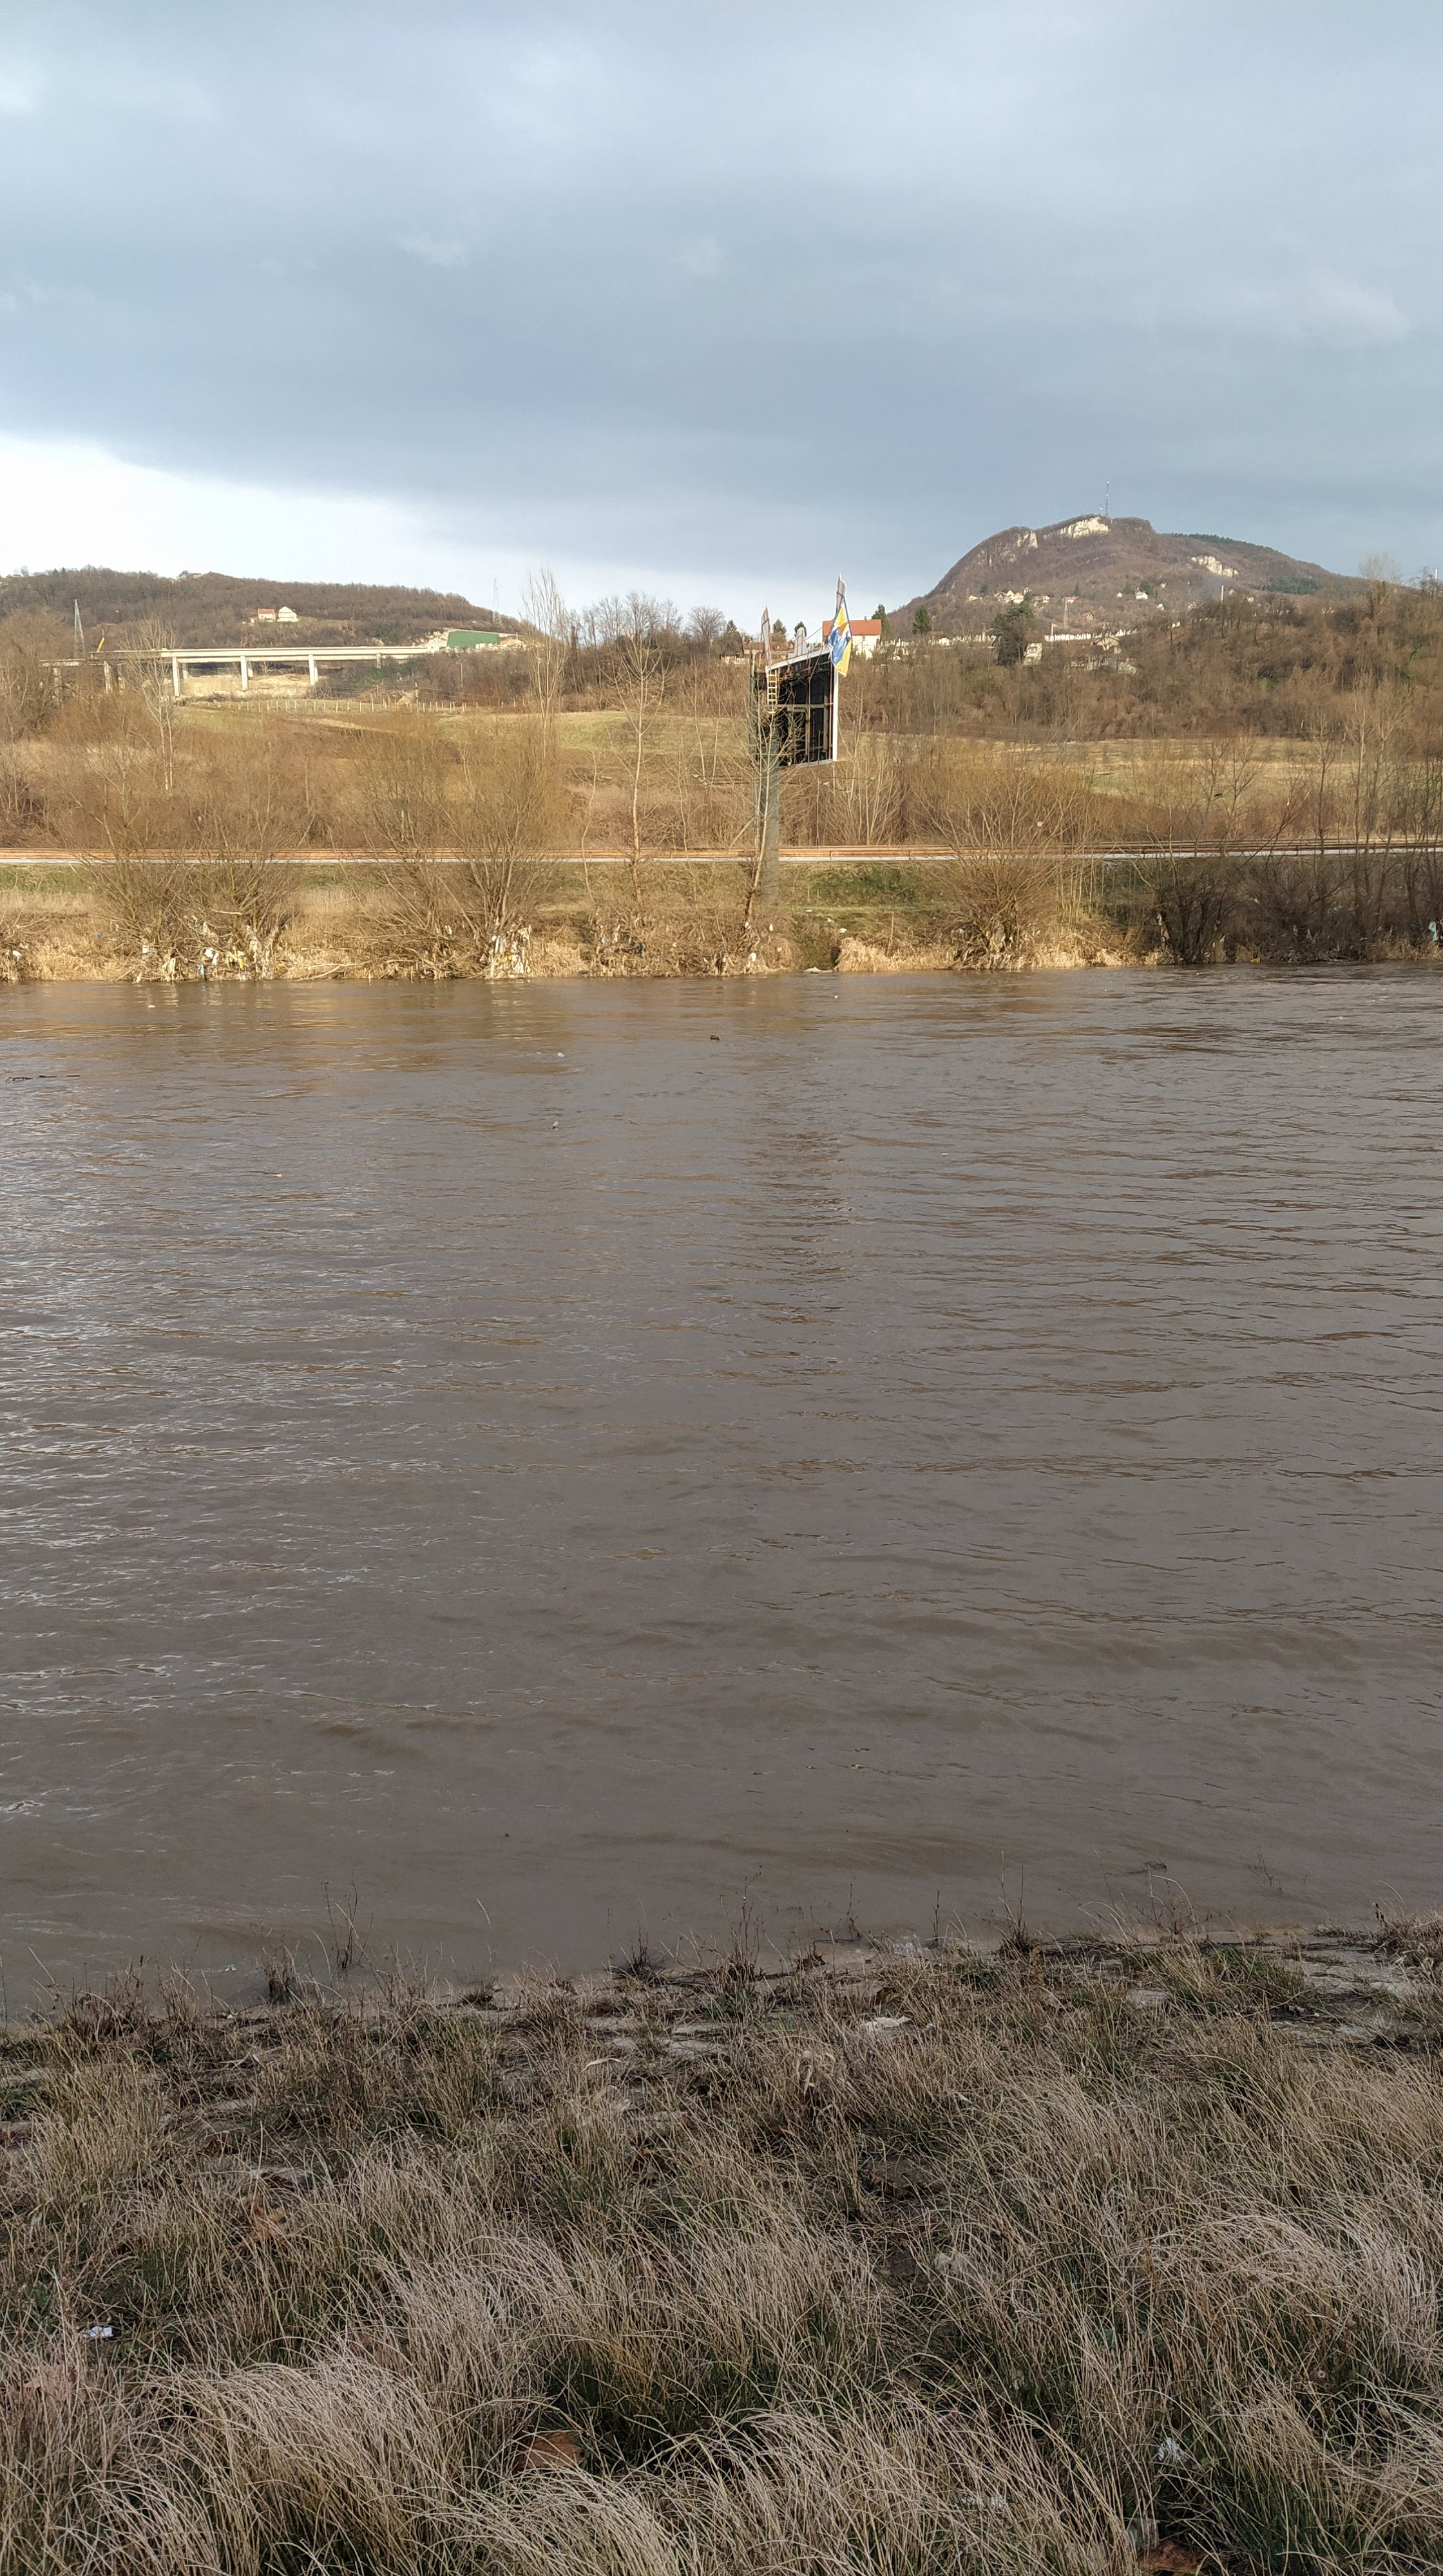Plastic Bottle: (551, 1122, 558, 1129), (712, 1035, 721, 1040), (556, 1051, 563, 1056), (149, 1005, 154, 1007)
